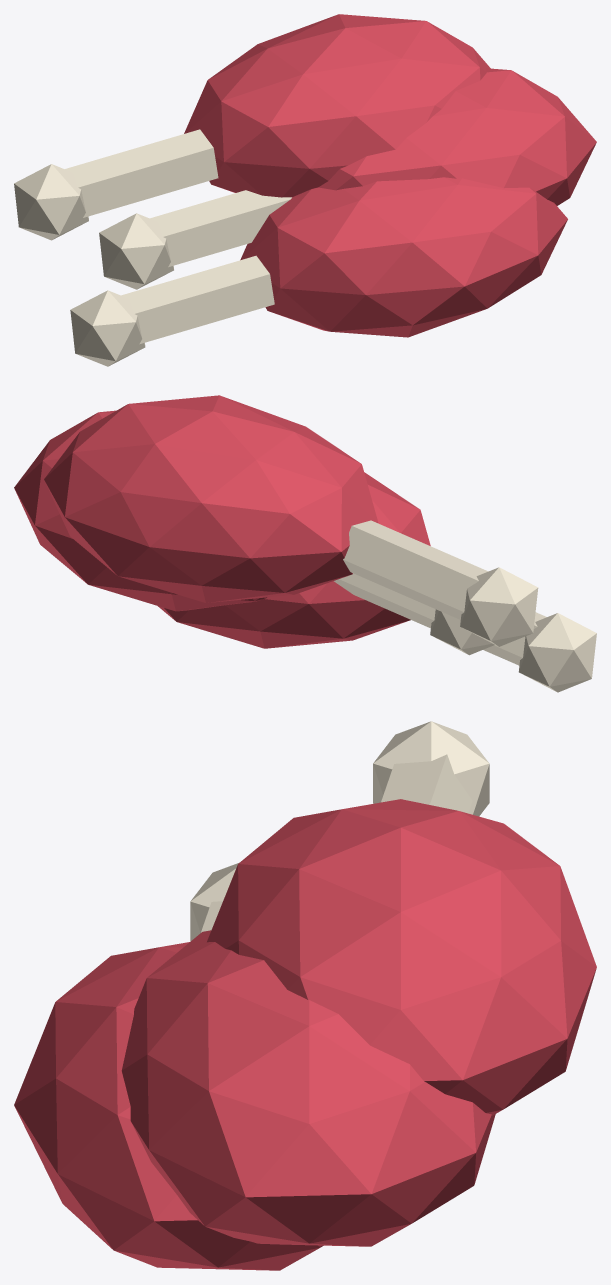
Rendered from item_025_dried_meat_m.glb.
The picture shows the model from 3 angles, top to bottom: view 1: azimuth 30°, elevation 25°; view 2: azimuth 150°, elevation 25°; view 3: azimuth 270°, elevation 25°; orthographic projection. The views are drawn at different scales.
Parts seen in each view (by area): view 1: item_025_dried_meat_m; view 2: item_025_dried_meat_m; view 3: item_025_dried_meat_m.
Part boxes in pixels (<box>): item_025_dried_meat_m: <box>14,14,596,366</box>; item_025_dried_meat_m: <box>14,395,596,692</box>; item_025_dried_meat_m: <box>14,721,596,1270</box>.
Size of the model in its own units: 0.6408 by 0.2911 by 0.3829.
